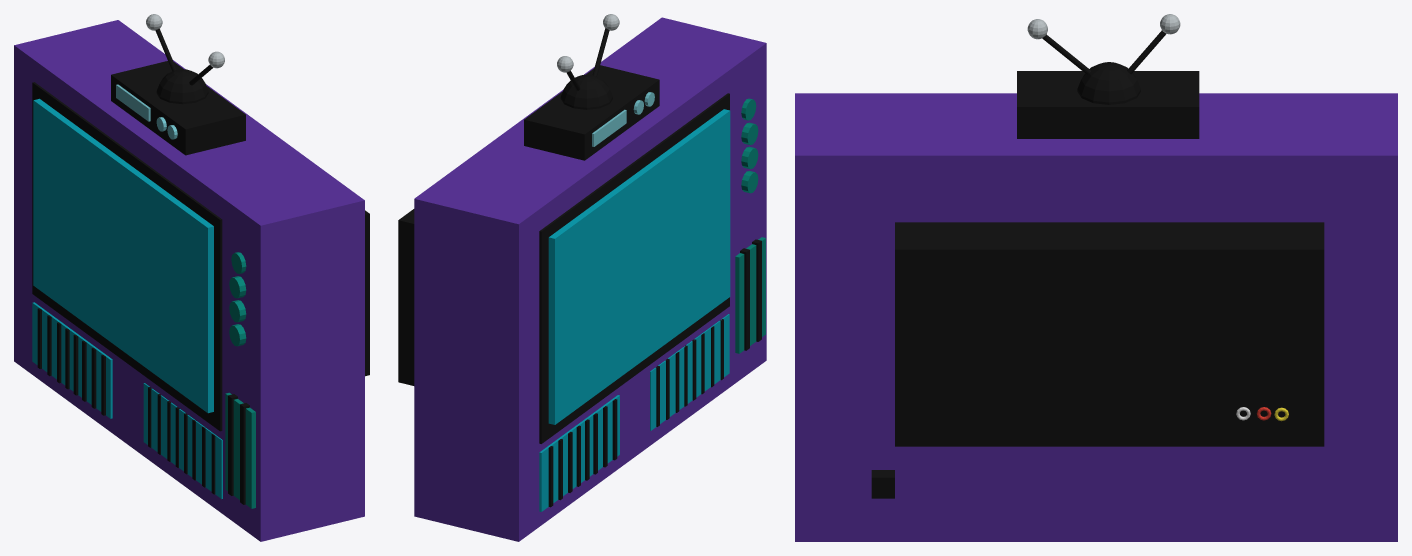
The picture shows the model from 3 angles, left to right: view 1: azimuth 30°, elevation 25°; view 2: azimuth 150°, elevation 25°; view 3: azimuth 270°, elevation 25°; orthographic projection. The views are drawn at different scales.
Parts seen in each view (by area): view 1: node_MeshObject2016088064-PolyPaper2; view 2: node_MeshObject2016088064-PolyPaper2; view 3: node_MeshObject2016088064-PolyPaper2.
Boxes of the visible parts, x1,y1,x2,y2 form: node_MeshObject2016088064-PolyPaper2: [14, 14, 369, 541]; node_MeshObject2016088064-PolyPaper2: [398, 14, 766, 541]; node_MeshObject2016088064-PolyPaper2: [795, 14, 1397, 541].
Bounding box in the file's own units: 0.7713 × 1.85 × 2.05.
